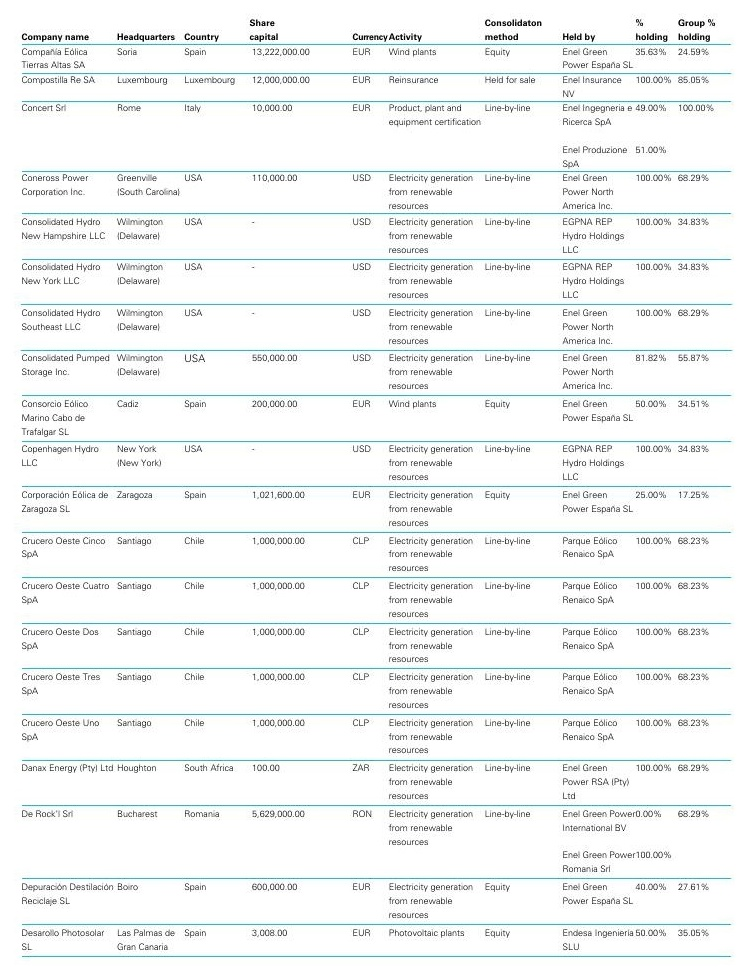table: (0, 0, 740, 967)
